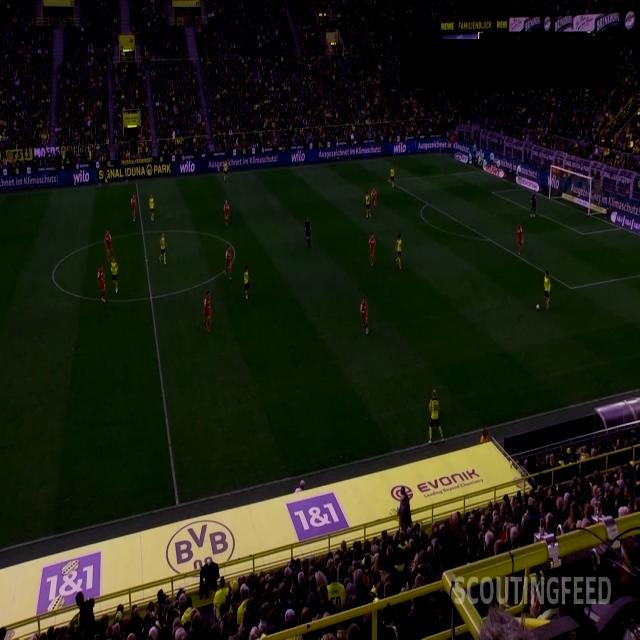ball: (534, 303, 540, 313)
f_player: (427, 388, 442, 444), (358, 296, 373, 338), (102, 230, 116, 262), (110, 261, 122, 295), (202, 292, 212, 332), (395, 232, 405, 269), (365, 190, 377, 220), (97, 266, 107, 302), (543, 274, 552, 312), (368, 232, 378, 266), (223, 244, 233, 278), (242, 264, 251, 300), (515, 223, 525, 255), (158, 233, 168, 265), (148, 193, 158, 221), (130, 194, 138, 222), (224, 200, 232, 226), (390, 167, 398, 188), (222, 161, 230, 181), (530, 194, 536, 218)
umpire: (304, 220, 312, 248)
